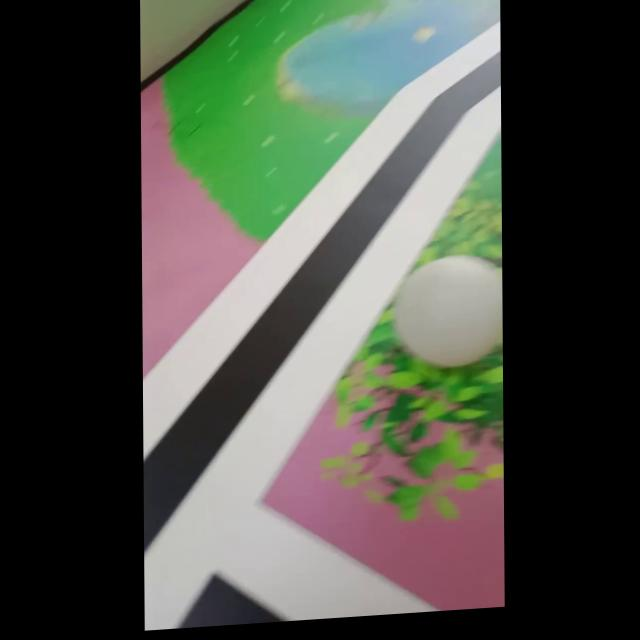white ball: (392, 251, 501, 372)
